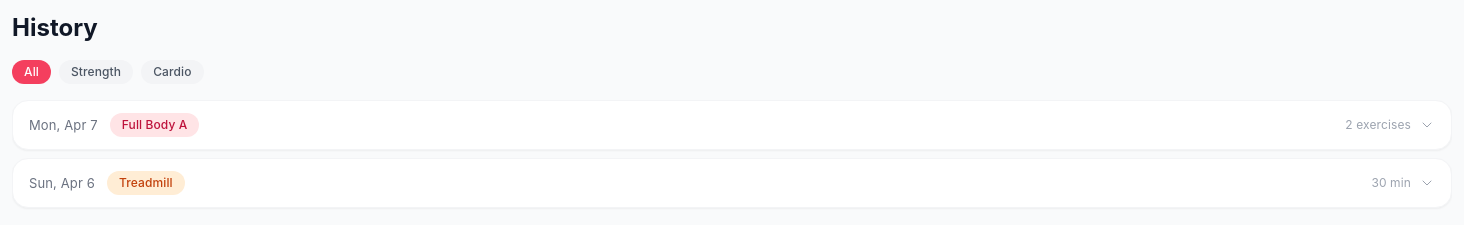
Test case: History page › filter 'Strength' hides cardio entries
The image size is (1464, 225).
expect the number of elements with test id "session-item" is 2: met, box [12,100,1452,150]; [12,158,1452,208]
What coordinates should you click on to do the following:
click the button with test id "filter-strength"
I would click on:
 (96, 72)
Its box is [59,60,133,84].
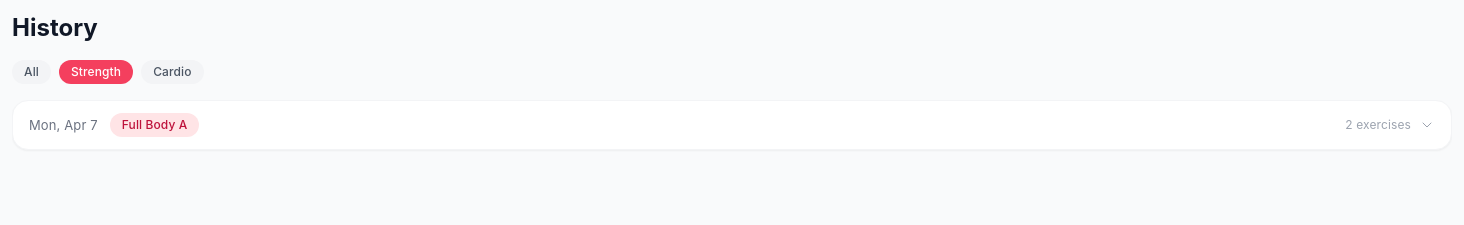
expect the text "2 exercises" is shown: met, box [1345,117,1411,133]
expect the number of elements with test id "session-item" is 1: met, box [12,100,1452,150]
